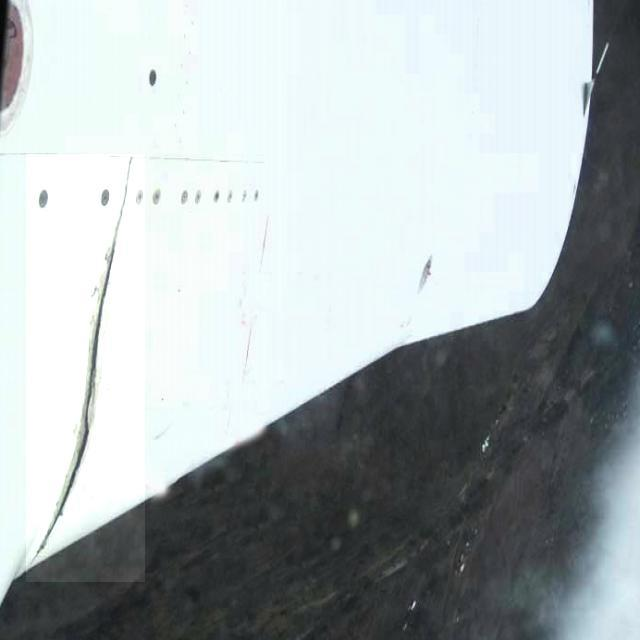crack: (27, 155, 146, 583)
